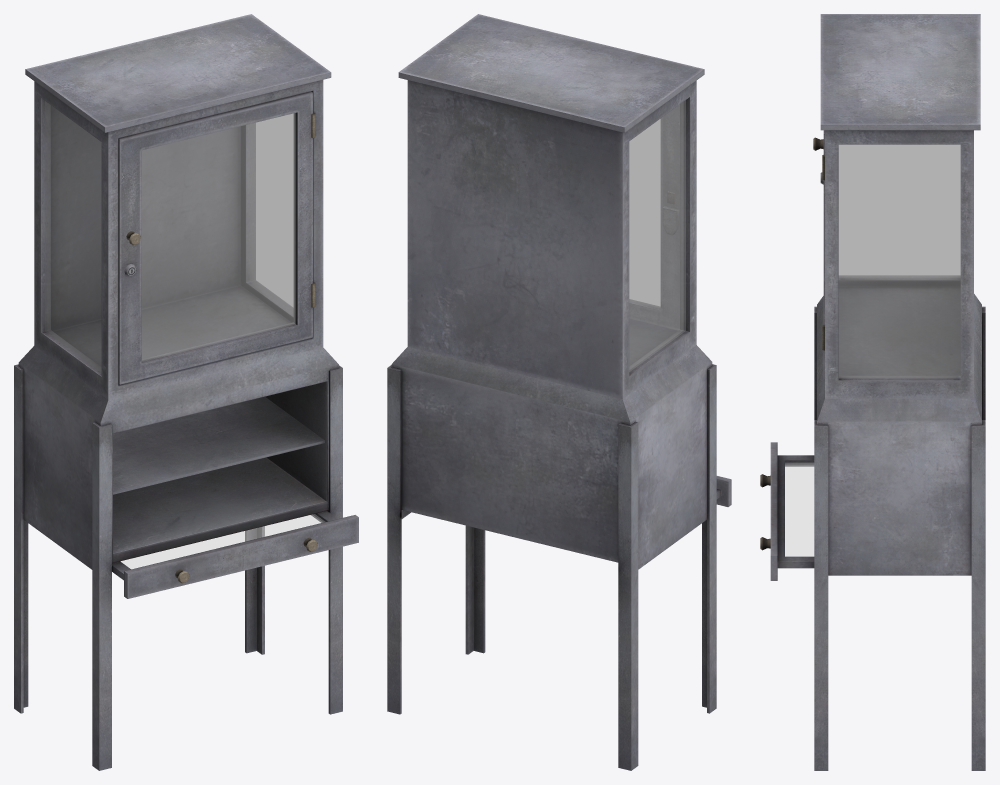
The model's file is Medical_Cabinet_02.fbx.
3 renders of one model, left to right at view 1: azimuth 30°, elevation 25°; view 2: azimuth 150°, elevation 25°; view 3: azimuth 270°, elevation 25°, orthographic.
Visible parts, largest first — view 1: Medical_Cabinet_02; view 2: Medical_Cabinet_02; view 3: Medical_Cabinet_02.
Boxes of the visible parts, x1,y1,x2,y2 form: Medical_Cabinet_02: [14, 14, 358, 770]; Medical_Cabinet_02: [387, 14, 731, 770]; Medical_Cabinet_02: [760, 14, 985, 770].
Size of the model in its own units: 65.56 by 164 by 52.15.
Materials: 2 (1 with a texture image).
